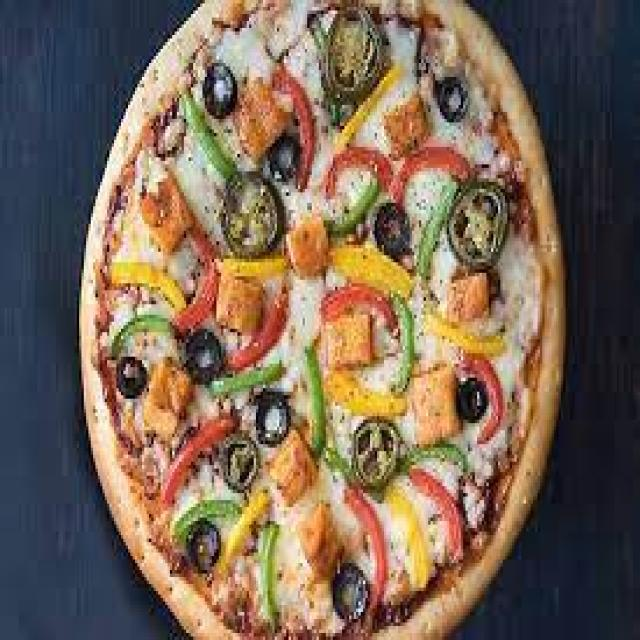피자: (79, 0, 568, 640)
